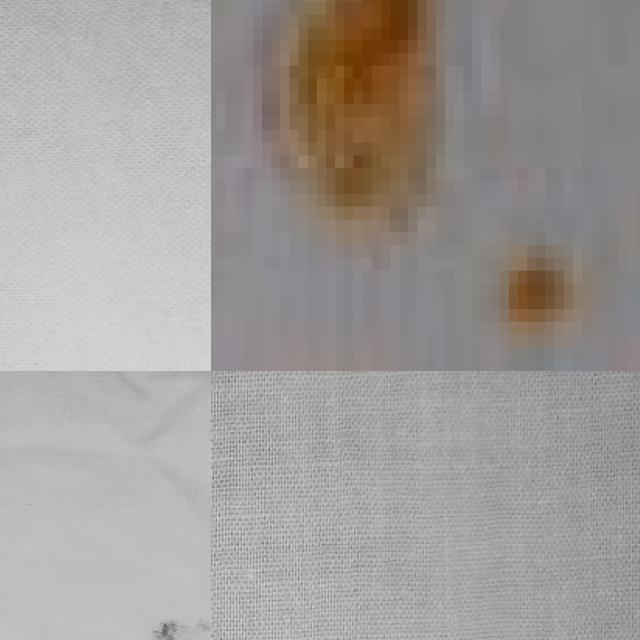Thread_other: (211, 0, 608, 371)
